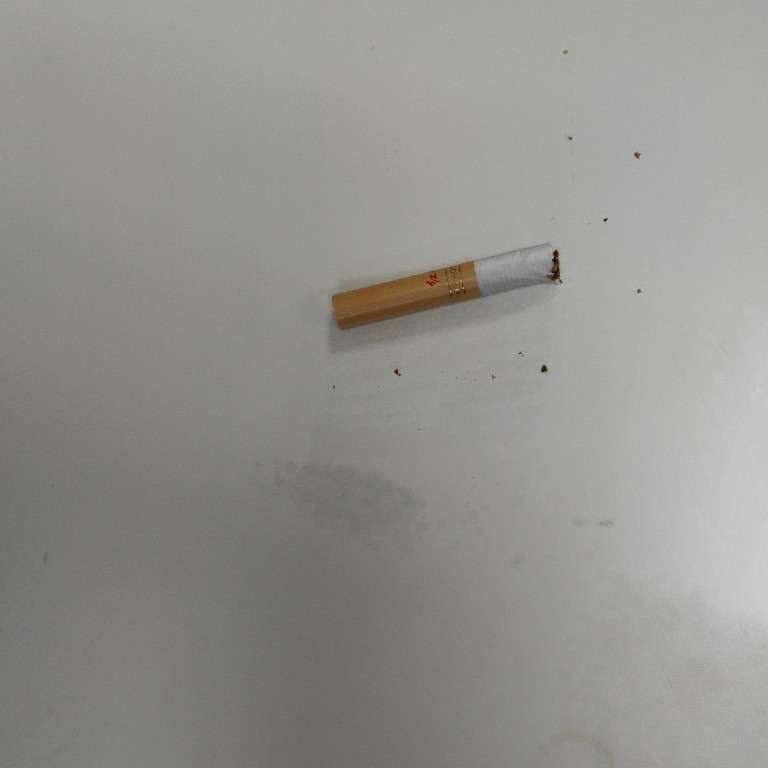cigarette: (328, 239, 566, 330)
